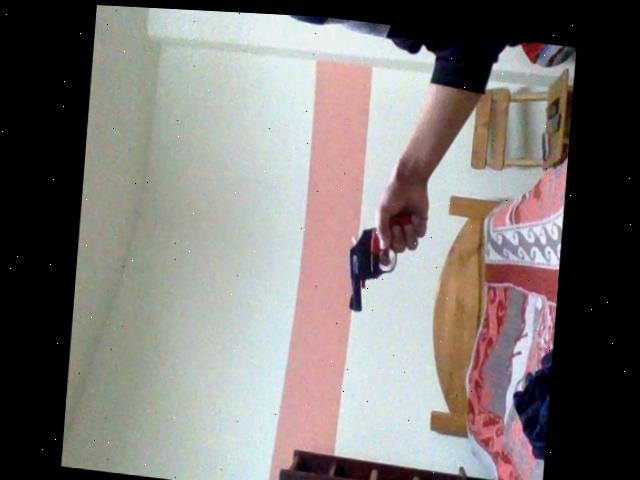pistol: (323, 157, 455, 343)
